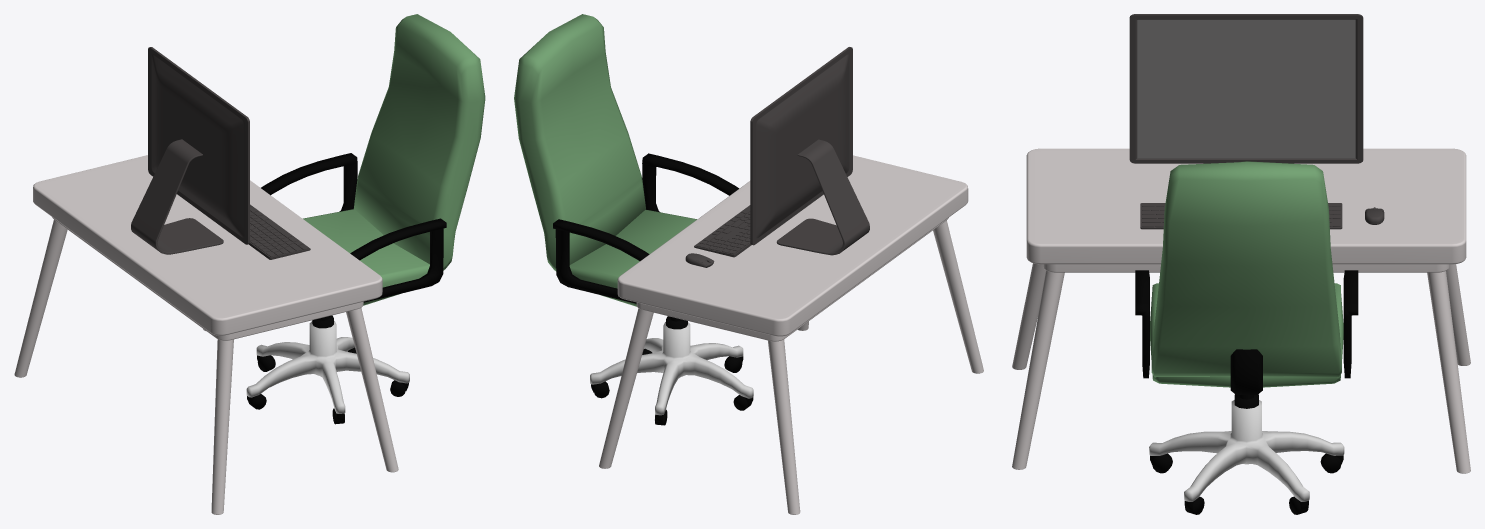
The model's file is computer.glb.
3 views of the same model, side by side, from view 1: azimuth 30°, elevation 25°; view 2: azimuth 150°, elevation 25°; view 3: azimuth 270°, elevation 25° (orthographic). The views are drawn at different scales.
Parts seen in each view (by area): view 1: chair, pCube5, Screen, Stand, pCylinder1, pCylinder2, pCylinder4, Keyboard, pCube6; view 2: chair, pCube5, Screen, Stand, pCylinder4, pCylinder3, pCylinder1, Keyboard, pCube6; view 3: chair, Screen, pCube5, pCylinder3, pCylinder2, pCube6, pCylinder1, pCylinder4, Keyboard.
Part boxes in pixels (bbox=[...]): chair: bbox=[246, 14, 485, 424]; pCube5: bbox=[33, 155, 382, 335]; Screen: bbox=[148, 47, 249, 244]; Stand: bbox=[131, 139, 223, 254]; pCylinder1: bbox=[211, 339, 233, 514]; pCylinder2: bbox=[346, 308, 398, 472]; pCylinder4: bbox=[14, 220, 67, 377]; Keyboard: bbox=[249, 204, 310, 259]; pCube6: bbox=[52, 217, 363, 340]; chair: bbox=[514, 14, 753, 425]; pCube5: bbox=[617, 155, 968, 336]; Screen: bbox=[750, 47, 852, 245]; Stand: bbox=[776, 139, 869, 255]; pCylinder4: bbox=[768, 339, 800, 514]; pCylinder3: bbox=[599, 308, 653, 468]; pCylinder1: bbox=[933, 220, 983, 373]; Keyboard: bbox=[694, 205, 751, 257]; pCube6: bbox=[636, 217, 948, 341]; chair: bbox=[1135, 161, 1358, 514]; Screen: bbox=[1129, 14, 1363, 163]; pCube5: bbox=[1026, 148, 1466, 264]; pCylinder3: bbox=[1427, 271, 1470, 473]; pCylinder2: bbox=[1012, 270, 1064, 469]; pCube6: bbox=[1043, 264, 1449, 272]; pCylinder1: bbox=[1012, 263, 1045, 369]; pCylinder4: bbox=[1446, 264, 1470, 365]; Keyboard: bbox=[1140, 203, 1342, 229].
Bounding box in the file's own units: 0.0429 × 0.0399 × 0.0417.
